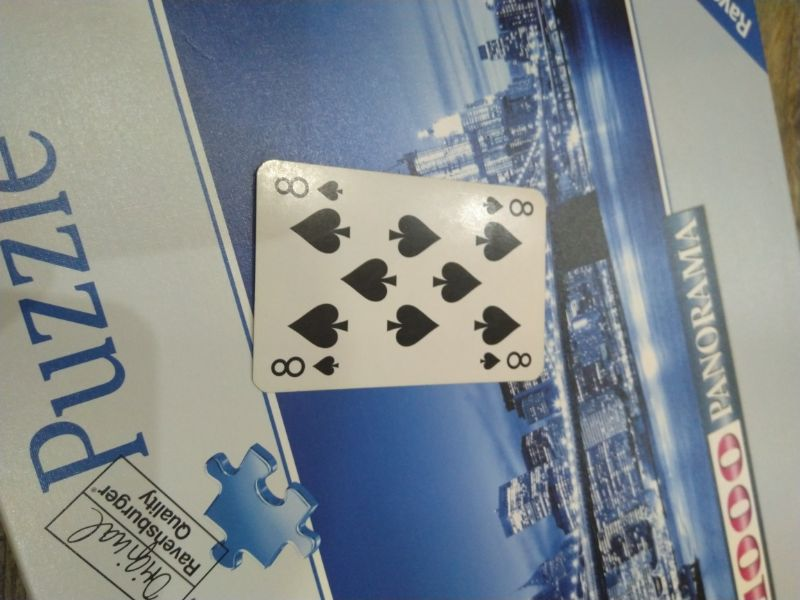8s: (269, 172, 348, 204), (270, 351, 344, 380), (480, 192, 538, 219), (477, 348, 537, 372)
